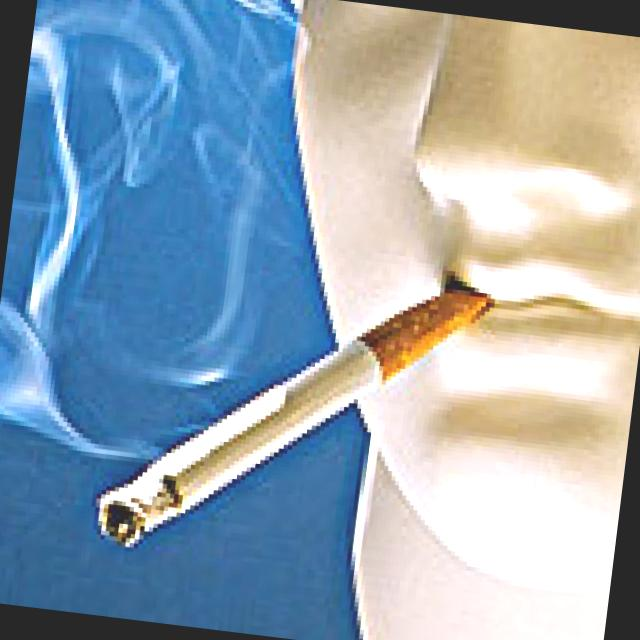cigarette: (90, 249, 450, 586)
